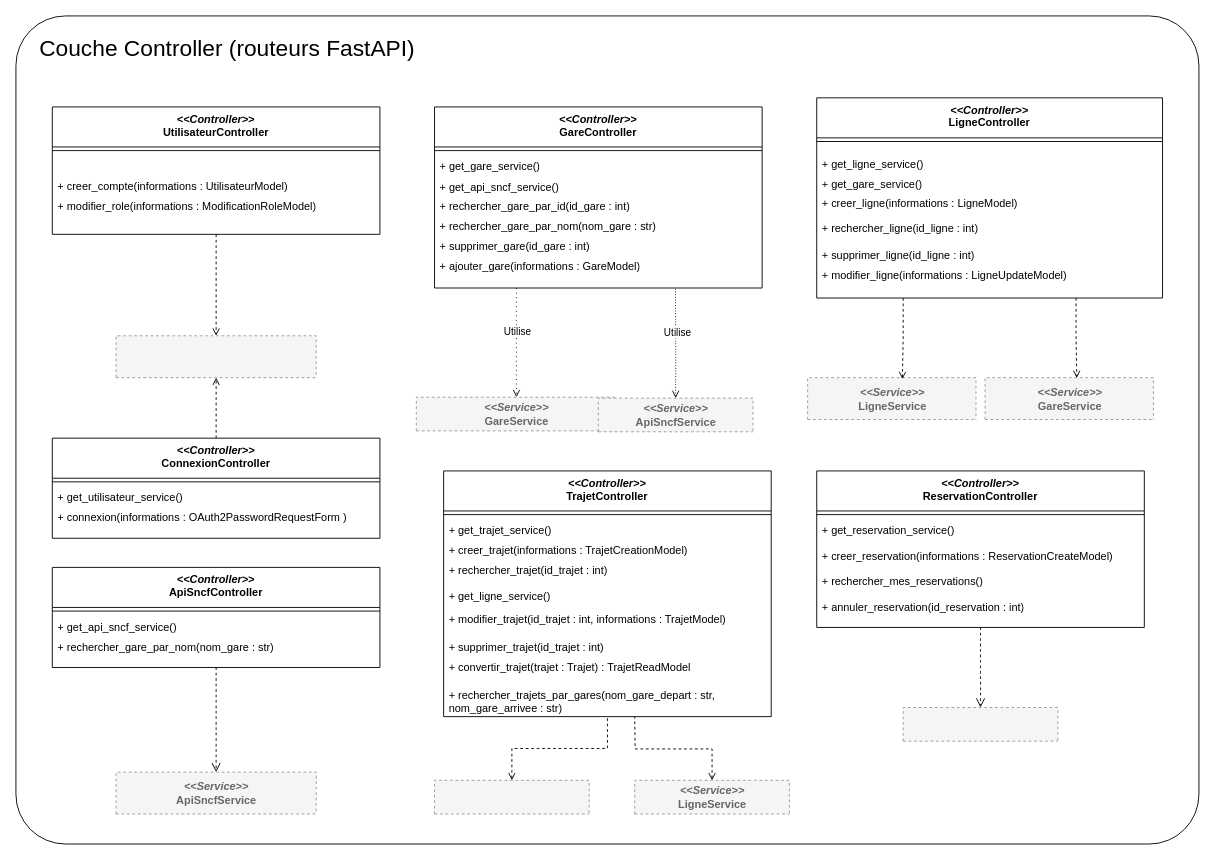
The diagram is 1215 pixels wide and 860 high, and some of its shapes have lost their labels. The shapes that lost their labels are listed below. From the top down, each one's centre as x and y in pixels, then its label:
At pixel 215 356: "<<Service>> UtilisateurService".
At pixel 980 724: "<<Service>> ReservationService".
At pixel 511 796: "<<Service>> TrajetService".
